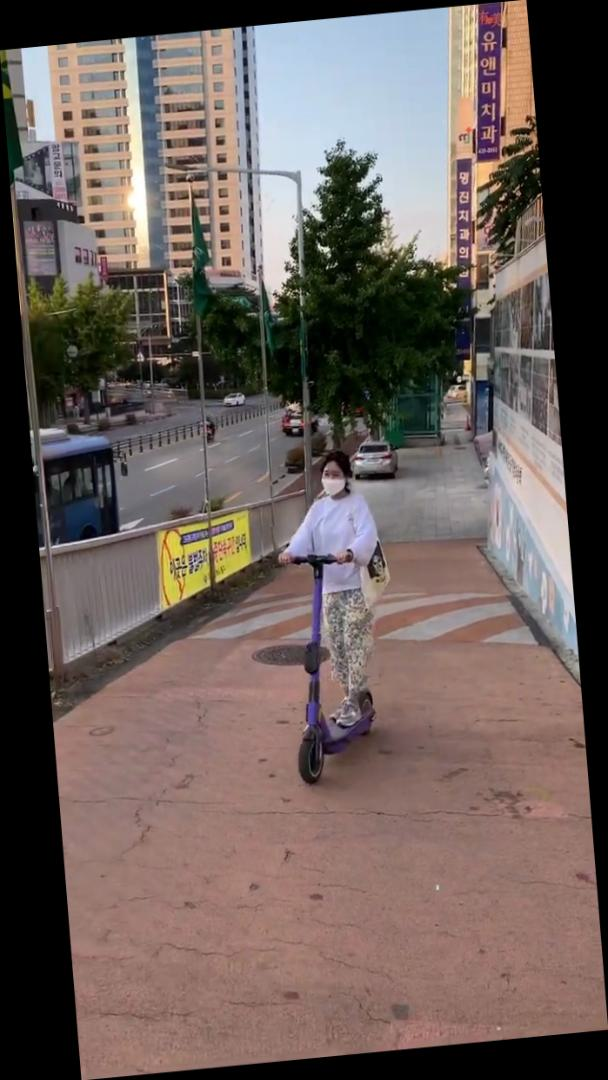nonhelmet: (258, 446, 404, 790)
